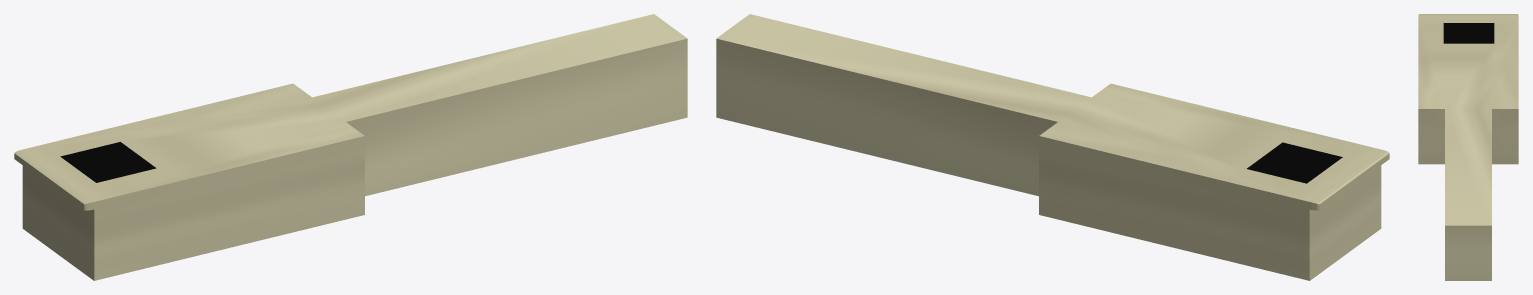
Rendered from A_key.obj.
The picture shows the model from 3 angles, left to right: view 1: azimuth 30°, elevation 25°; view 2: azimuth 150°, elevation 25°; view 3: azimuth 270°, elevation 25°; orthographic projection. The views are drawn at different scales.
Visible parts, largest first — view 1: A_key; view 2: A_key; view 3: A_key.
Boxes of the visible parts, x1,y1,x2,y2 form: A_key: (14,14,687,280); A_key: (716,14,1389,280); A_key: (1418,14,1518,280).
Size of what is drawn, in the model's own units: 17.27 by 2.12 by 3.45.
Materials: 2 (2 with a texture image).
